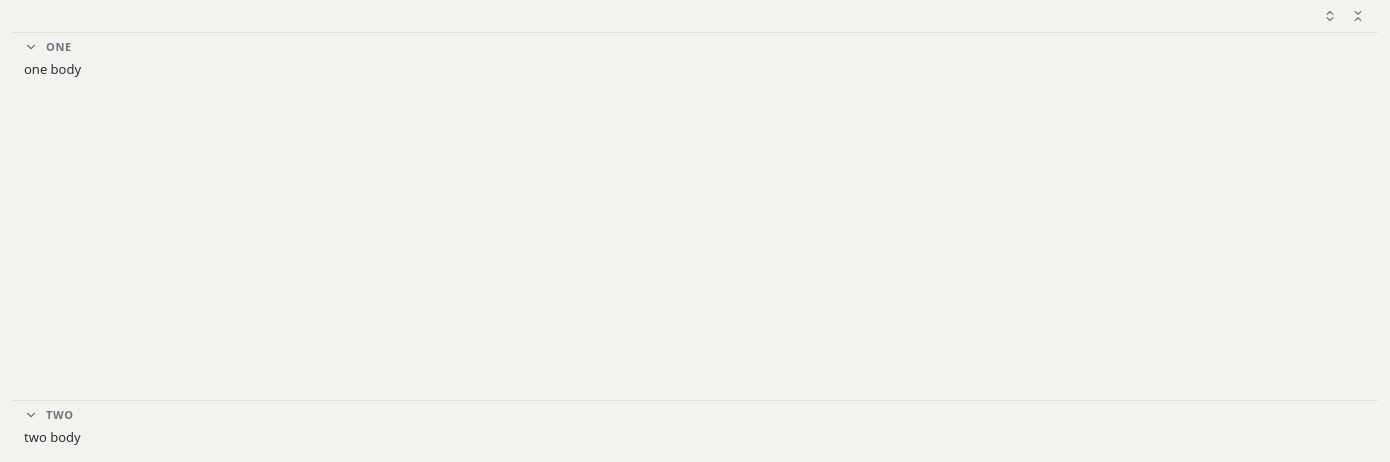
Sidebar › collapses every section when Collapse all is clicked
What coordinates should you click on to do the following:
click the button named "Collapse all sections"
I would click on:
 (1358, 16)
Its box is left=1346, top=4, right=1370, bottom=28.
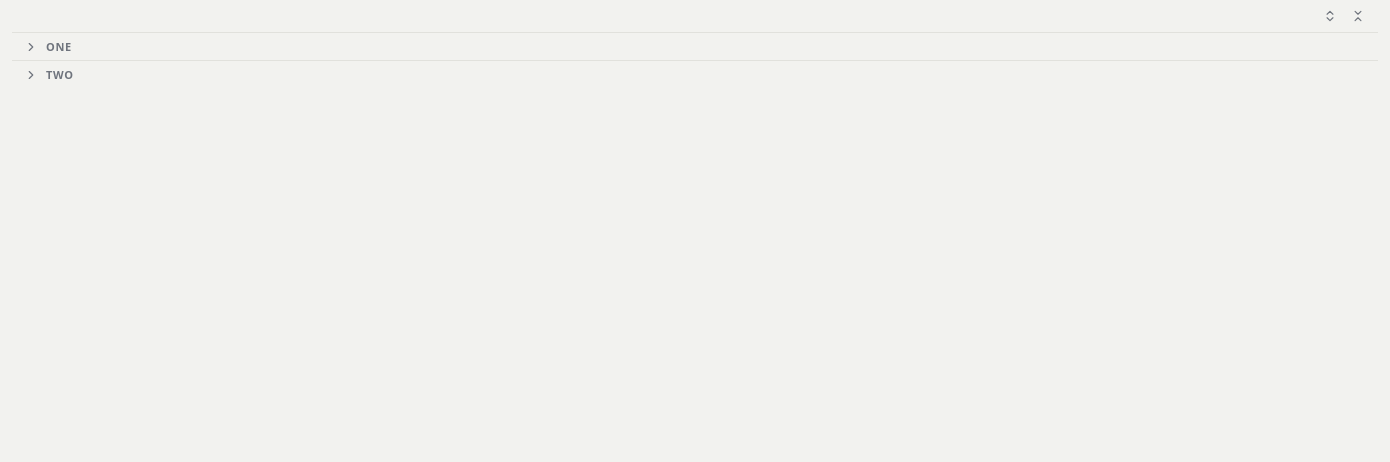
Expected: the button "One" is collapsed, left=12, top=33, right=1378, bottom=60
Expected: the button "Two" is collapsed, left=12, top=61, right=1378, bottom=89
